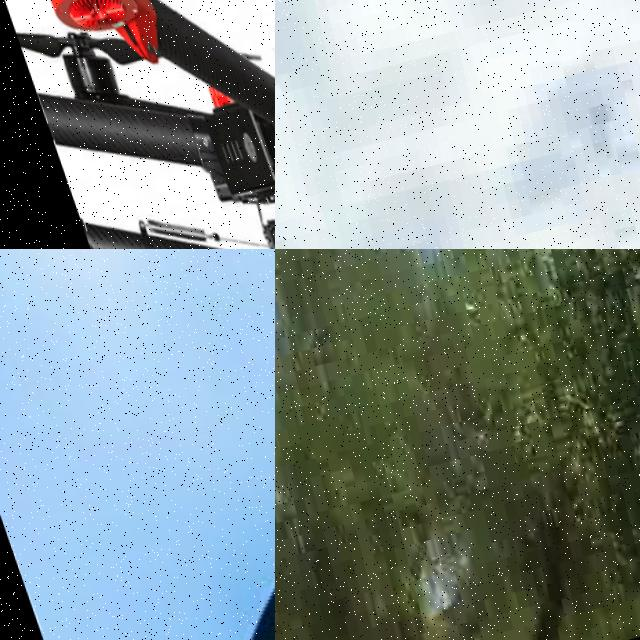drone: (0, 249, 275, 640), (0, 0, 275, 249)
